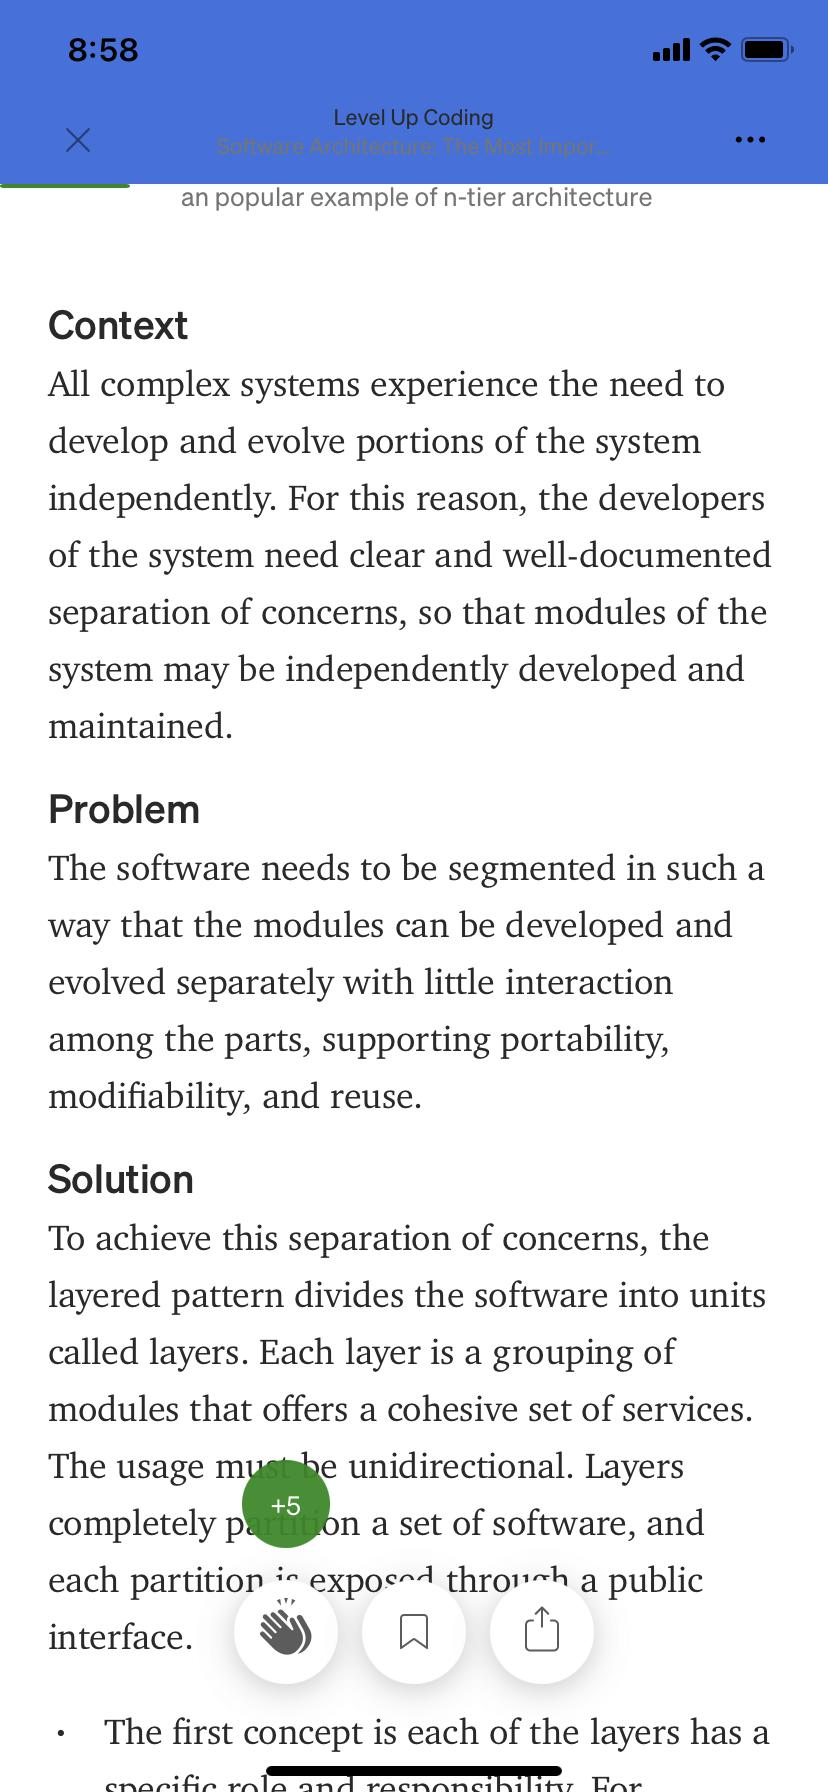FAB -Floating Action Button-: (489, 1574, 598, 1691), (234, 1576, 345, 1687), (360, 1581, 471, 1690)
Progress indicators: (1, 168, 823, 198)
